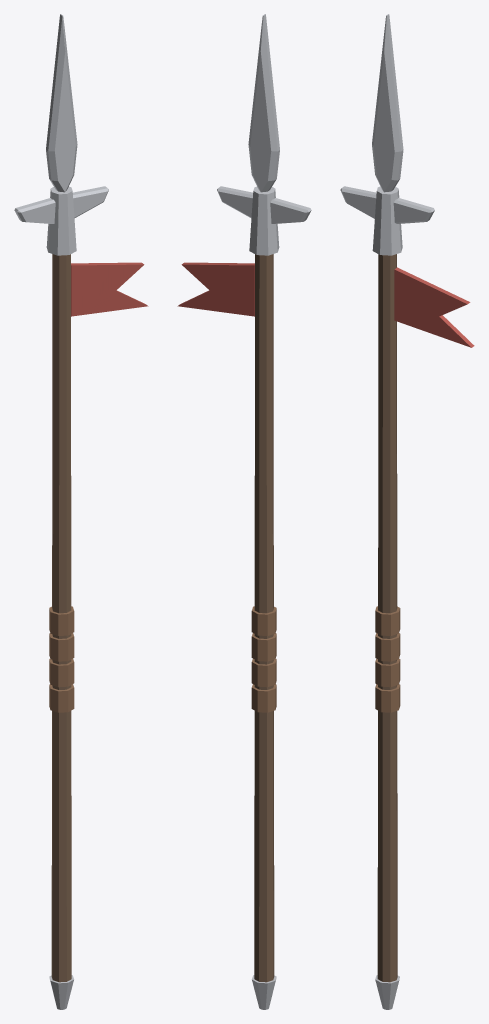
File: pica_soldado.glb
The picture shows the model from 3 angles, left to right: view 1: azimuth 30°, elevation 25°; view 2: azimuth 150°, elevation 25°; view 3: azimuth 330°, elevation 25°; orthographic projection.
Visible parts, largest first — view 1: pica_soldado; view 2: pica_soldado; view 3: pica_soldado.
Part boxes in pixels (bbox=[...]): pica_soldado: bbox=[14, 14, 148, 1009]; pica_soldado: bbox=[177, 14, 311, 1009]; pica_soldado: bbox=[340, 14, 474, 1009].
Bounding box in the file's own units: 0.3228 × 2.33 × 0.066.
